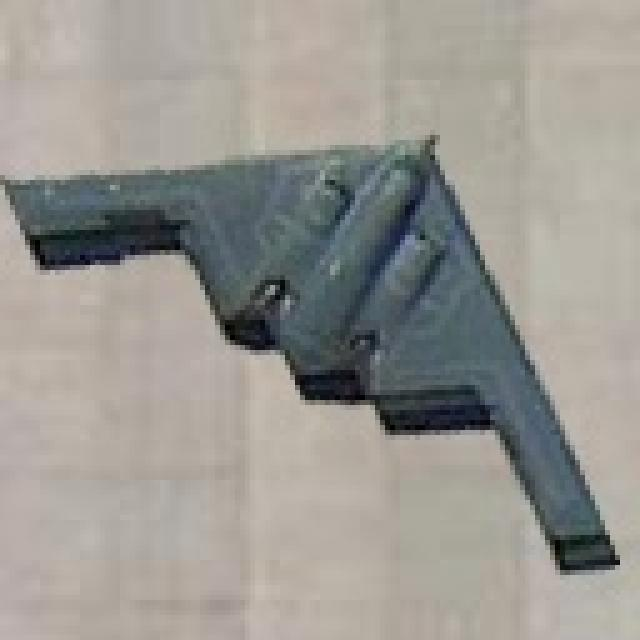B-2_TopDown: (0, 125, 620, 575)
